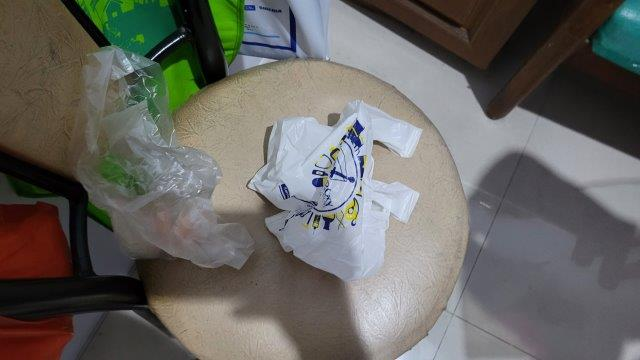plastik: (67, 44, 247, 270), (249, 98, 423, 278)
